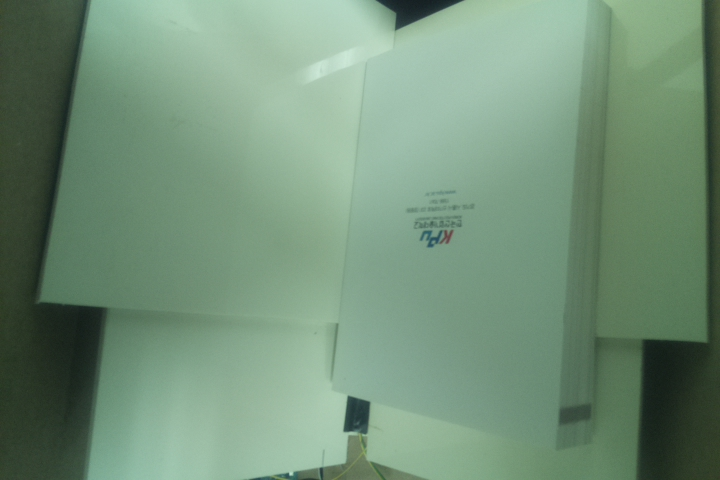book: (327, 1, 620, 452)
